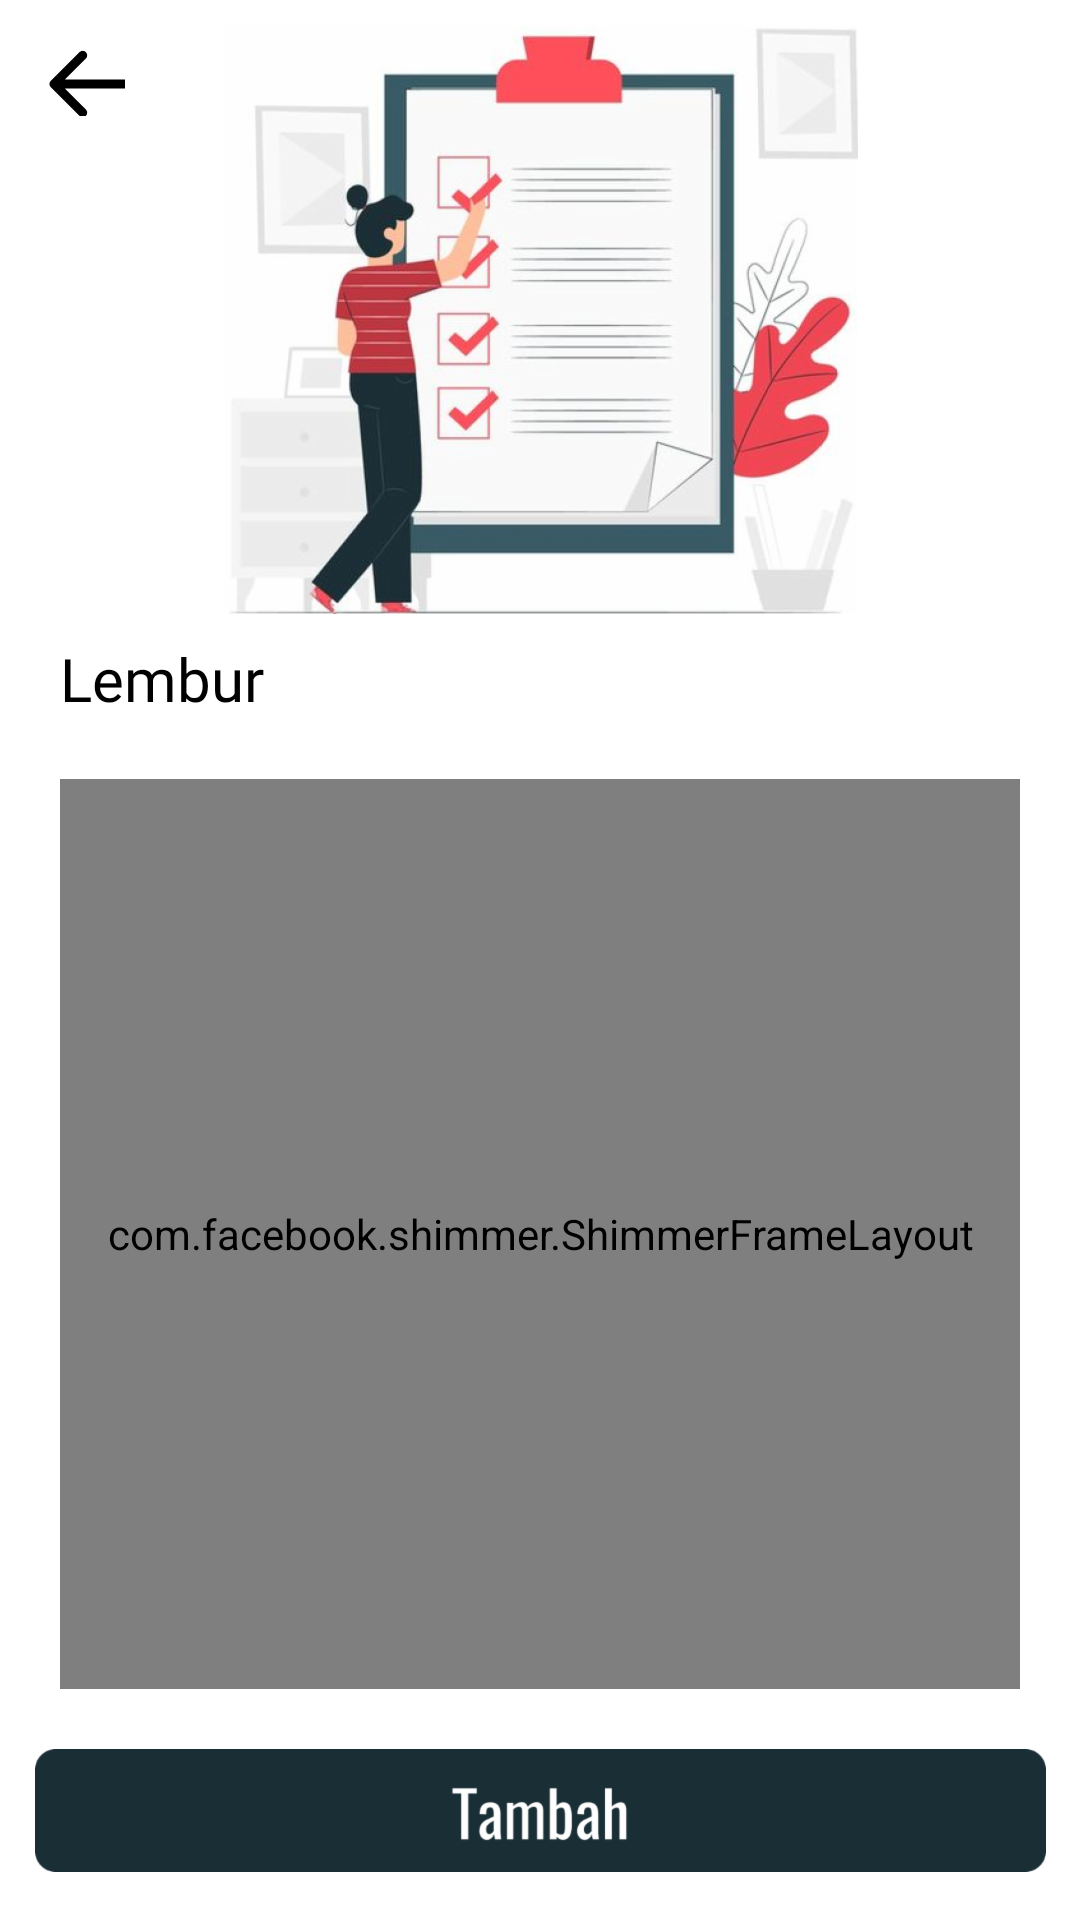

Where to tap for icons on this 1080 x 1920 app screen, as [x,y]:
back: [87,83]
